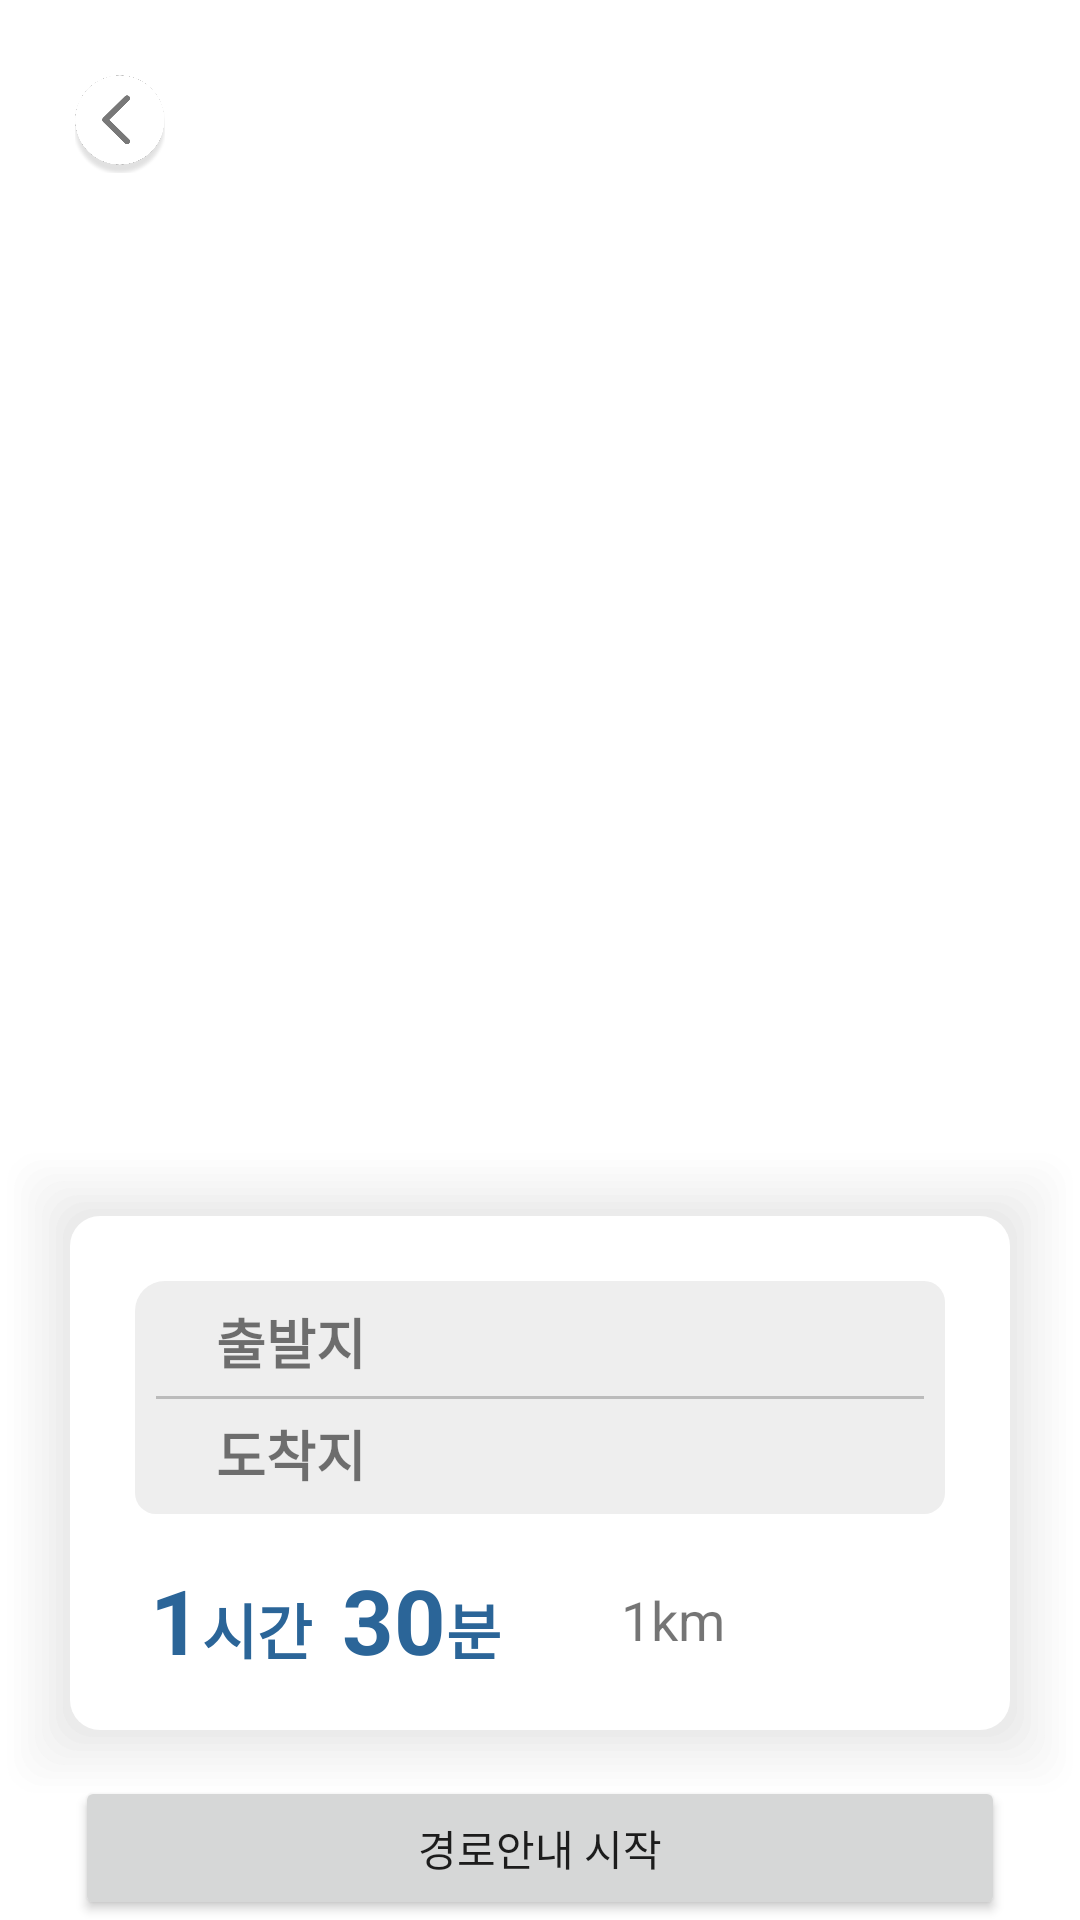

Icon bounding boxes for this 1080 x 1920 phone screenshot, format (left=x1, top=y1, right=x2, bottom=y2):
before: (left=75, top=75, right=161, bottom=171)
